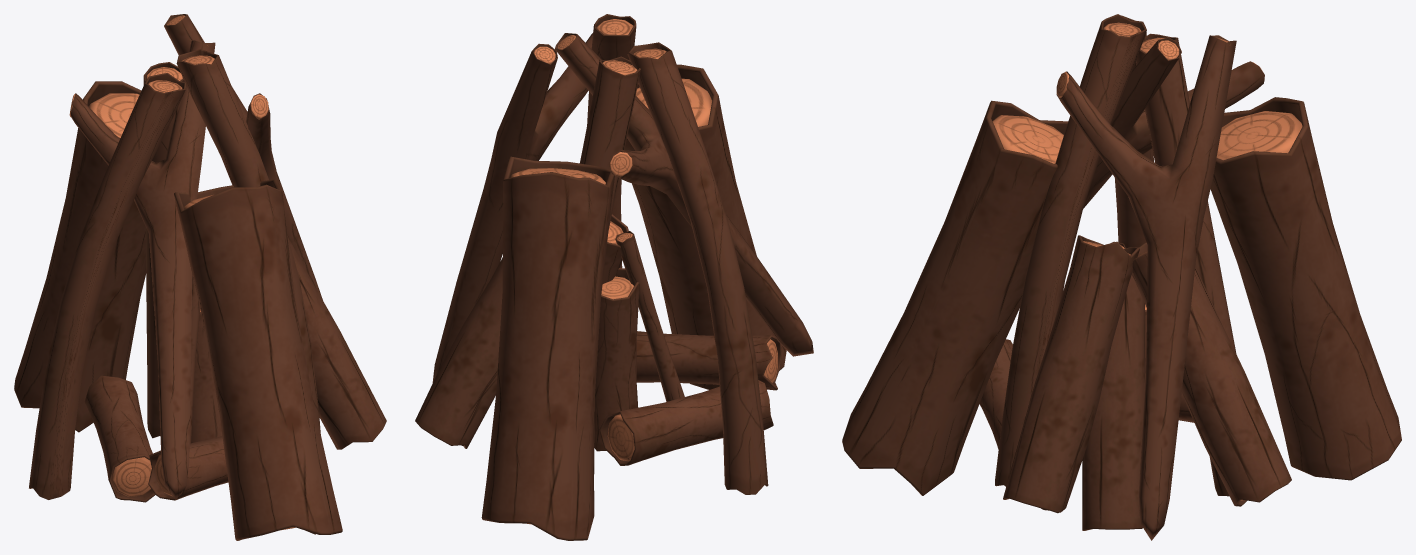
File: Campfire.fbx
The picture shows the model from 3 angles, left to right: view 1: azimuth 30°, elevation 25°; view 2: azimuth 150°, elevation 25°; view 3: azimuth 270°, elevation 25°; orthographic projection. The views are drawn at different scales.
Parts seen in each view (by area): view 1: Campfire_LOD0; view 2: Campfire_LOD0; view 3: Campfire_LOD0.
Part boxes in pixels (box(x1,y1,x2,y2)): Campfire_LOD0: box(14, 14, 386, 540); Campfire_LOD0: box(415, 14, 813, 540); Campfire_LOD0: box(842, 14, 1401, 540).
Size of what is drawn, in the model's own units: 2 by 2.58 by 2.77.
1 material, 1 textured.
